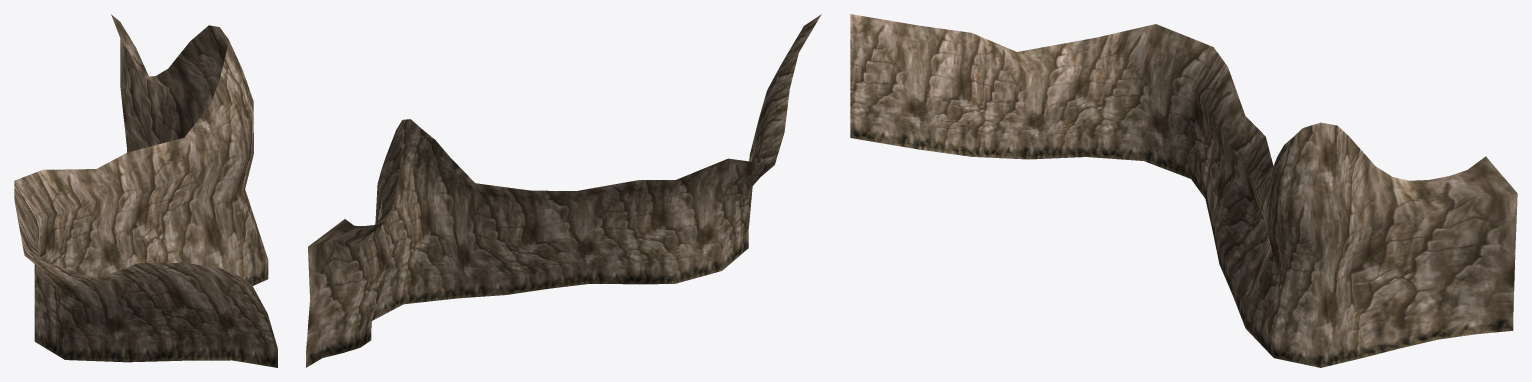
The model's file is OVERHILL_A_01_LINE19.fbx.
3 views of the same model, side by side, from view 1: azimuth 30°, elevation 25°; view 2: azimuth 150°, elevation 25°; view 3: azimuth 270°, elevation 25° (orthographic). The views are drawn at different scales.
Parts seen in each view (by area): view 1: OVERHILL_A_01_LINE19; view 2: OVERHILL_A_01_LINE19; view 3: OVERHILL_A_01_LINE19.
Part boxes in pixels (box(x1,y1,x2,y2)): OVERHILL_A_01_LINE19: box(14, 14, 277, 367); OVERHILL_A_01_LINE19: box(306, 14, 821, 367); OVERHILL_A_01_LINE19: box(850, 14, 1517, 367).
Bounding box in the file's own units: 109794 × 72897 × 192517.
2 materials, 2 textured.
